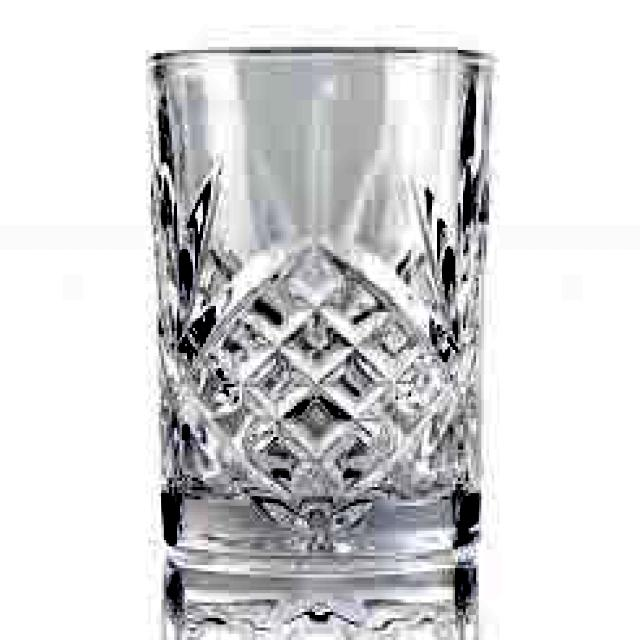Glass: (142, 39, 498, 574)
